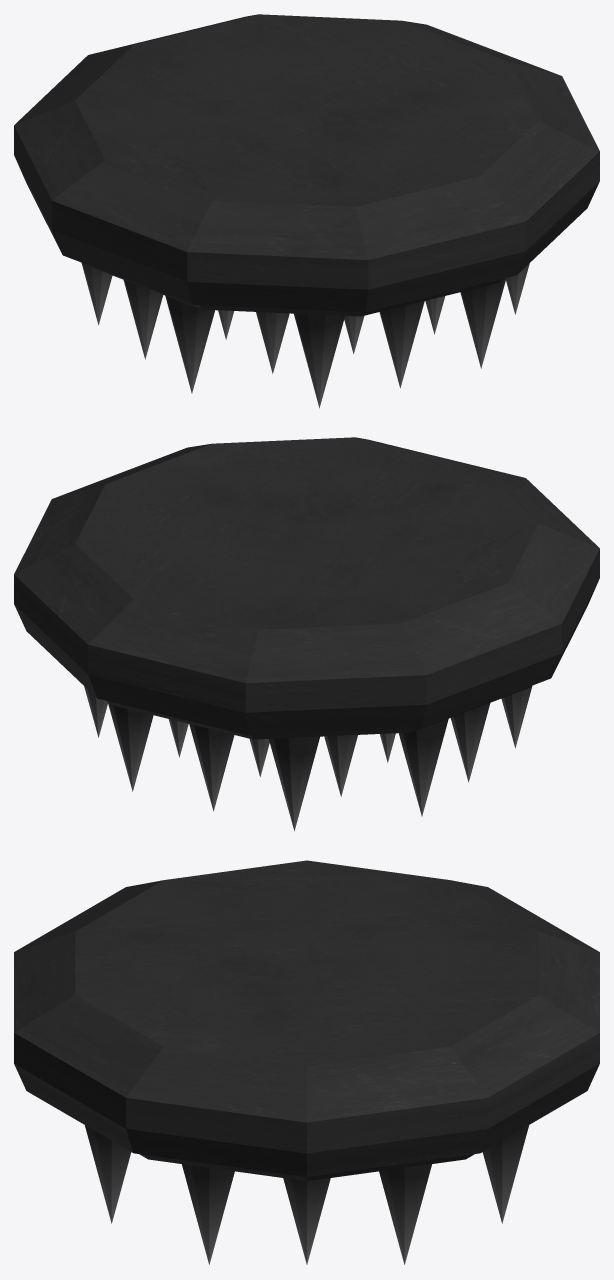
The model's file is 10_side_platform.fbx.
3 renders of one model, top to bottom at view 1: azimuth 30°, elevation 25°; view 2: azimuth 150°, elevation 25°; view 3: azimuth 270°, elevation 25°, orthographic. The views are drawn at different scales.
Visible parts, largest first — view 1: polySurface62; view 2: polySurface62; view 3: polySurface62.
Boxes of the visible parts, x1,y1,x2,y2 form: polySurface62: (14, 14, 599, 408); polySurface62: (14, 437, 599, 831); polySurface62: (14, 860, 599, 1264).
Bounding box in the file's own units: 6 × 2.36 × 5.71.
